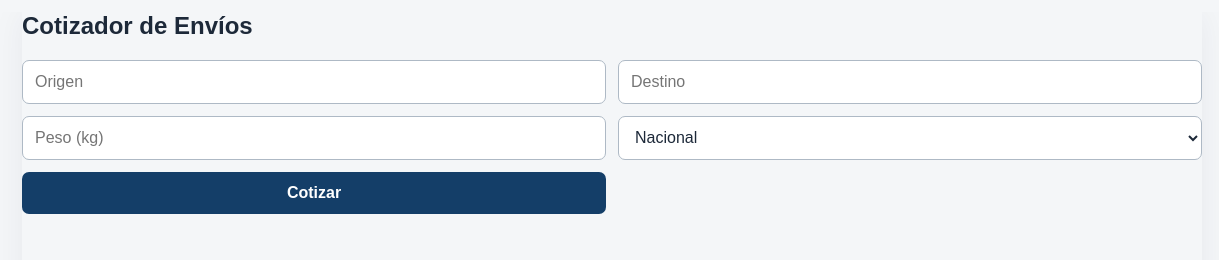
QuoteForm › valida los datos y el peso antes de cotizar
Click the button "Cotizar".
click(314, 193)  # box [22,172,606,214]
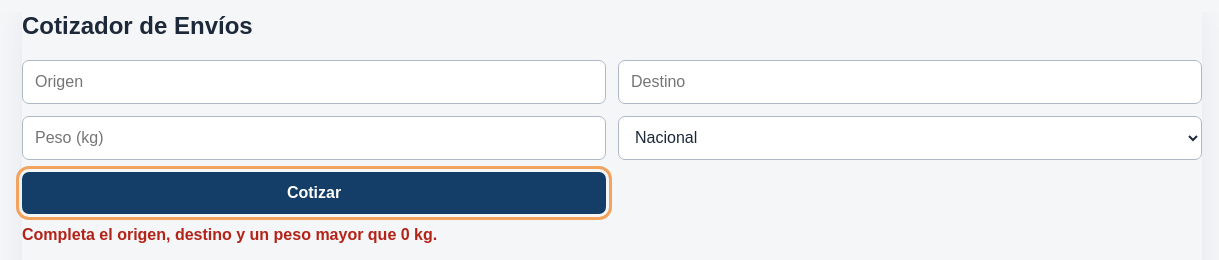
Check: the message shows "peso mayor que 0 kg", box [22,226,437,243]
